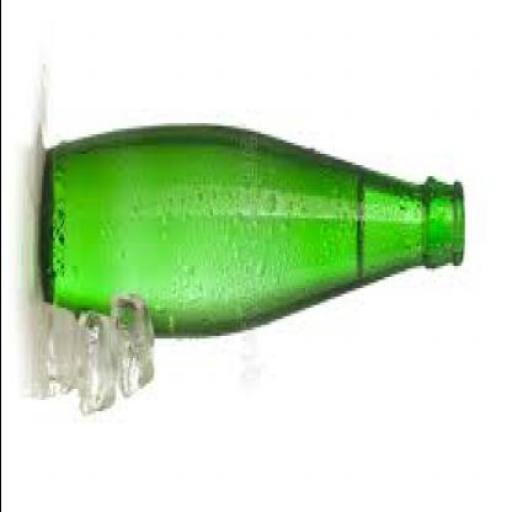glass: (40, 126, 466, 342)
